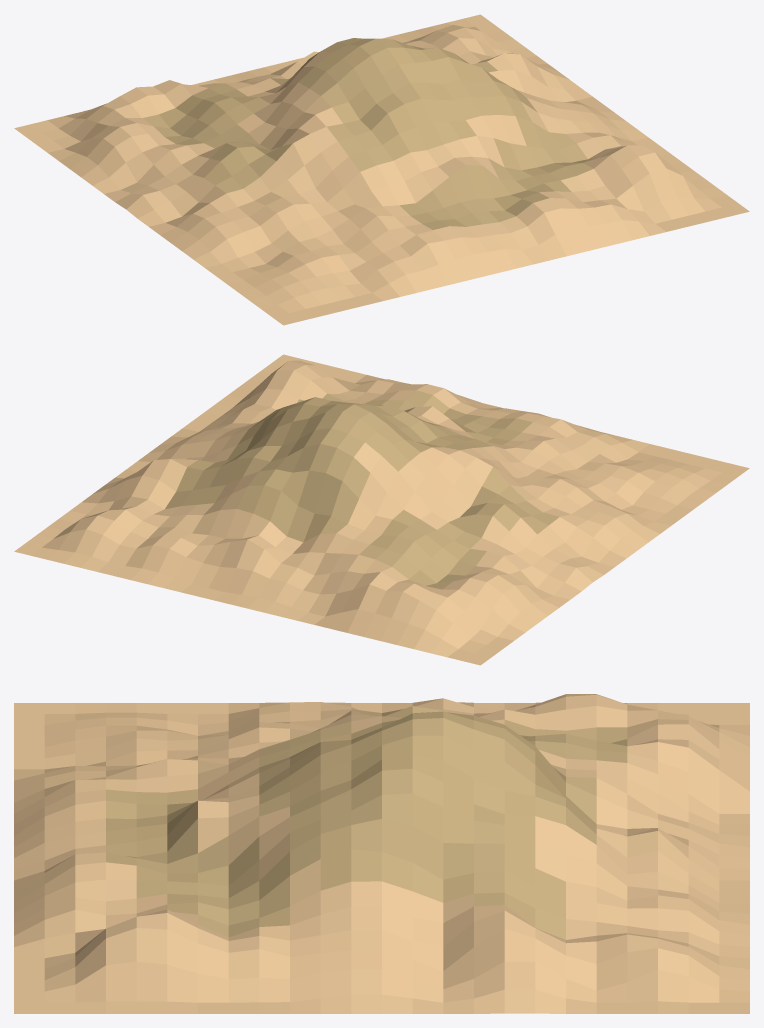
File: Large_Land_003.fbx
The picture shows the model from 3 angles, top to bottom: view 1: azimuth 30°, elevation 25°; view 2: azimuth 150°, elevation 25°; view 3: azimuth 270°, elevation 25°; orthographic projection. The views are drawn at different scales.
Parts seen in each view (by area): view 1: Large_Land.003; view 2: Large_Land.003; view 3: Large_Land.003.
Boxes of the visible parts, <box> form: Large_Land.003: <box>14,14,749,325</box>; Large_Land.003: <box>14,354,749,665</box>; Large_Land.003: <box>14,694,749,1013</box>.
Size of the model in its own units: 16000 by 3633 by 16000.
